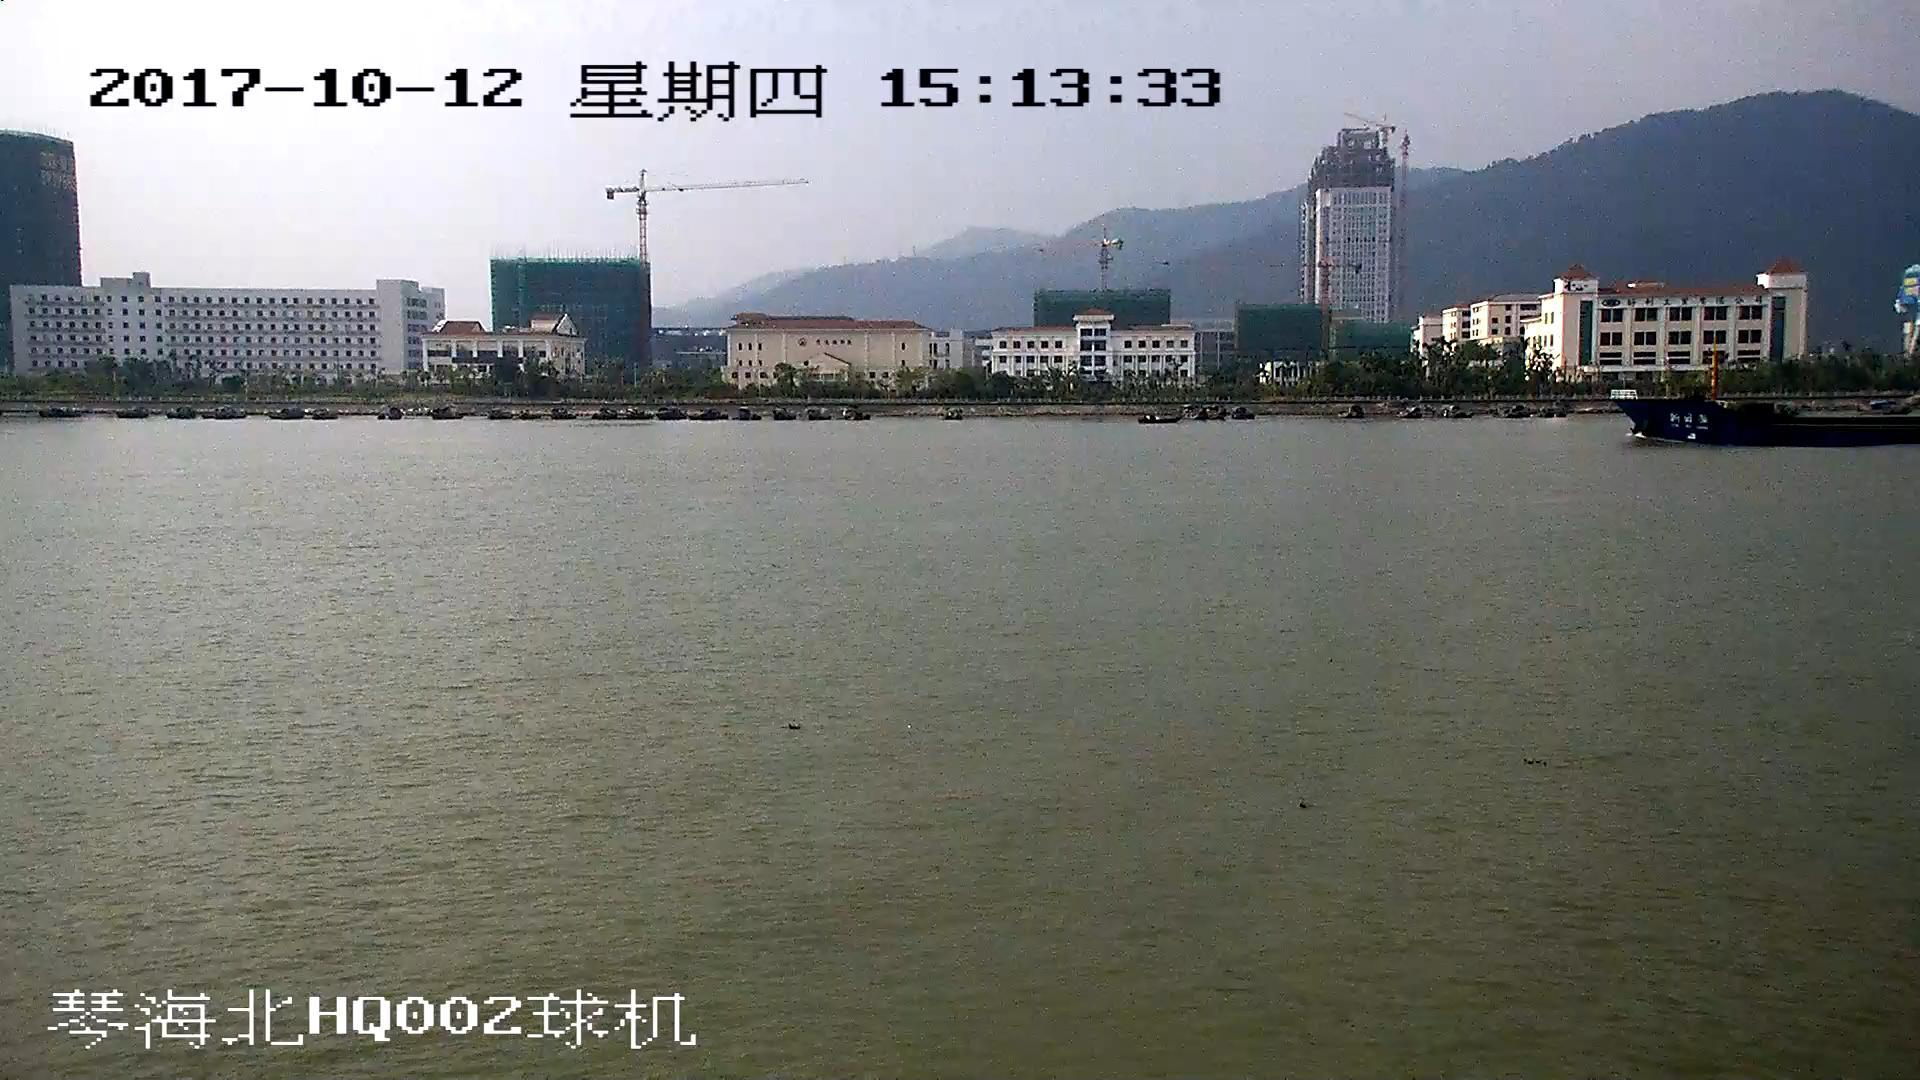Ship: (1614, 386, 1920, 452)
